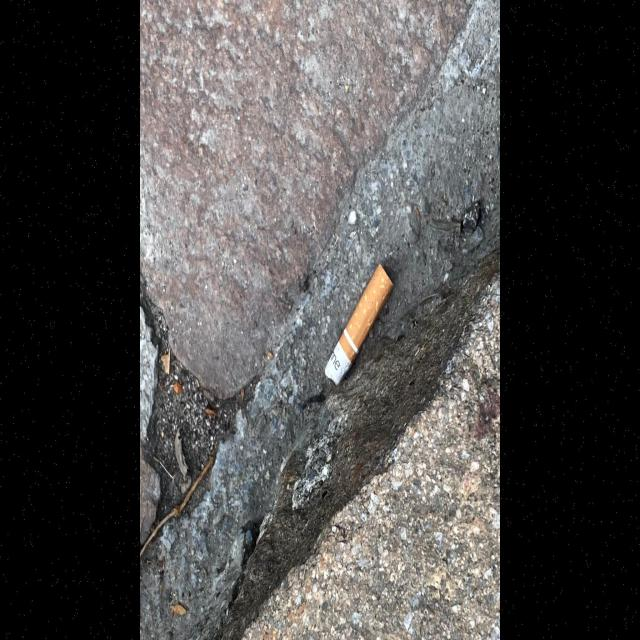other waste: (324, 261, 395, 386)
